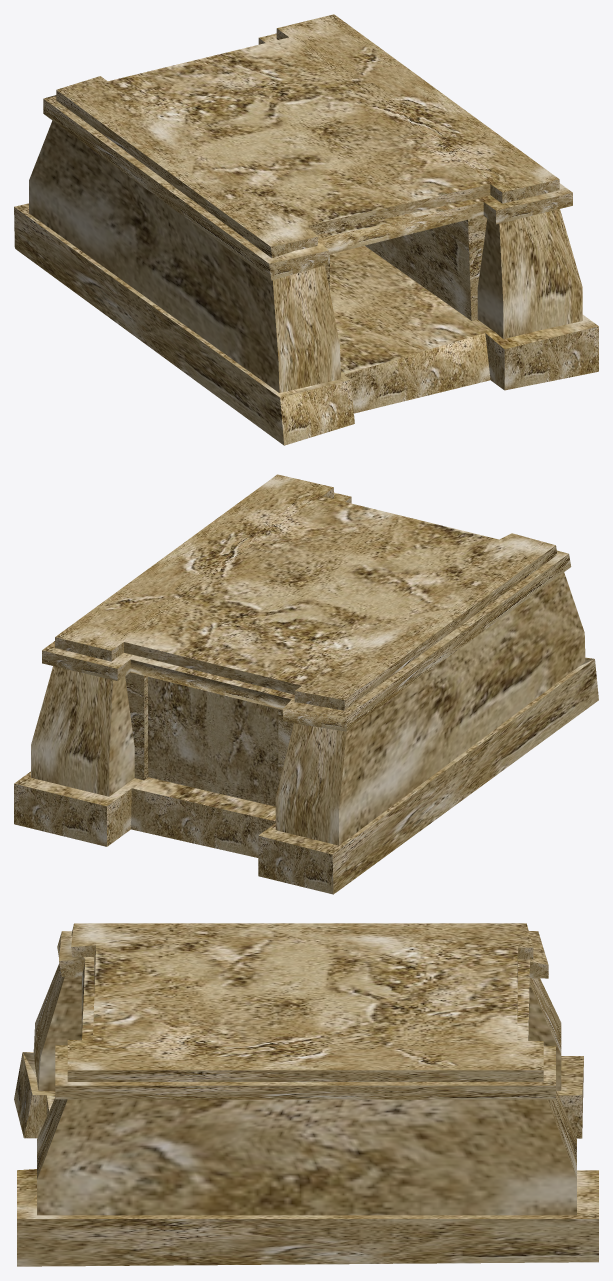
File: pir_m_prp_cem_catacomb_2.fbx
3 renders of one model, top to bottom at view 1: azimuth 30°, elevation 25°; view 2: azimuth 150°, elevation 25°; view 3: azimuth 270°, elevation 25°, orthographic. The views are drawn at different scales.
Parts seen in each view (by area): view 1: trim_right3, trim_right2, column_left_short, trim_right1, column_right_short, wall_arches1; view 2: trim_right3, column_left_short, trim_right2, wall_arches2, trim_right1, column_right_short, wall_arches1; view 3: trim_right3, column_right_short, trim_right2, trim_right1, column_left_short.
Part boxes in pixels (box(x1,y1,x2,y2)): trim_right3: box(56, 14, 559, 258); trim_right2: box(14, 203, 598, 445); column_left_short: box(29, 120, 340, 392); trim_right1: box(43, 33, 572, 280); column_right_short: box(477, 209, 582, 339); wall_arches1: box(325, 215, 487, 320); trim_right3: box(55, 474, 557, 710); column_left_short: box(275, 572, 585, 845); trim_right2: box(14, 657, 598, 894); wall_arches2: box(148, 676, 278, 806); trim_right1: box(42, 492, 571, 731); column_right_short: box(31, 666, 134, 796); wall_arches1: box(125, 672, 293, 786); trim_right3: box(67, 923, 543, 1081); column_right_short: box(37, 1090, 576, 1215); trim_right2: box(14, 1052, 598, 1266); trim_right1: box(55, 931, 555, 1099); column_left_short: box(33, 963, 561, 1090).
Size of the model in its own units: 786 by 429 by 1194.
1 material, 1 textured.
